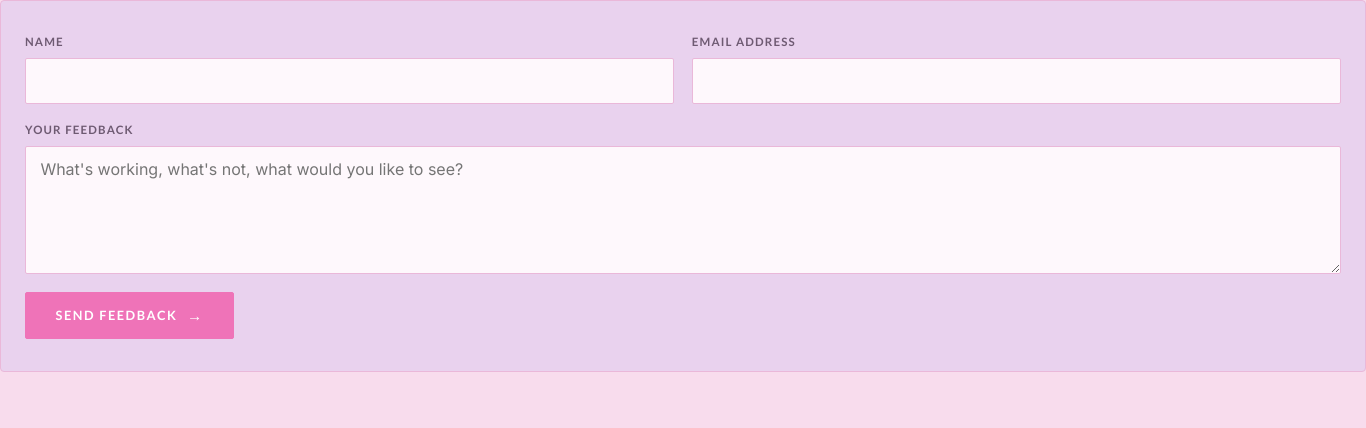
FeedbackForm › shows an error message when the action resolves with an error
This screenshot has width=1366, height=428.
In the field labelled "Name": [350, 81] box x1=25 y1=58 x2=674 y2=104, type "Amy"
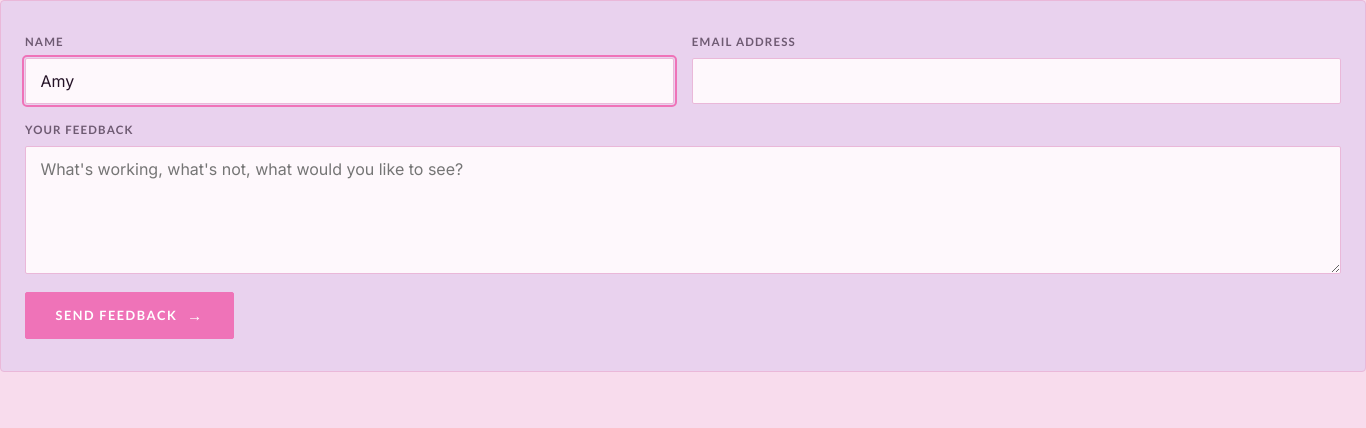
In the field labelled "Email address": [1016, 81] box x1=692 y1=58 x2=1341 y2=104, type "amy@example.com"
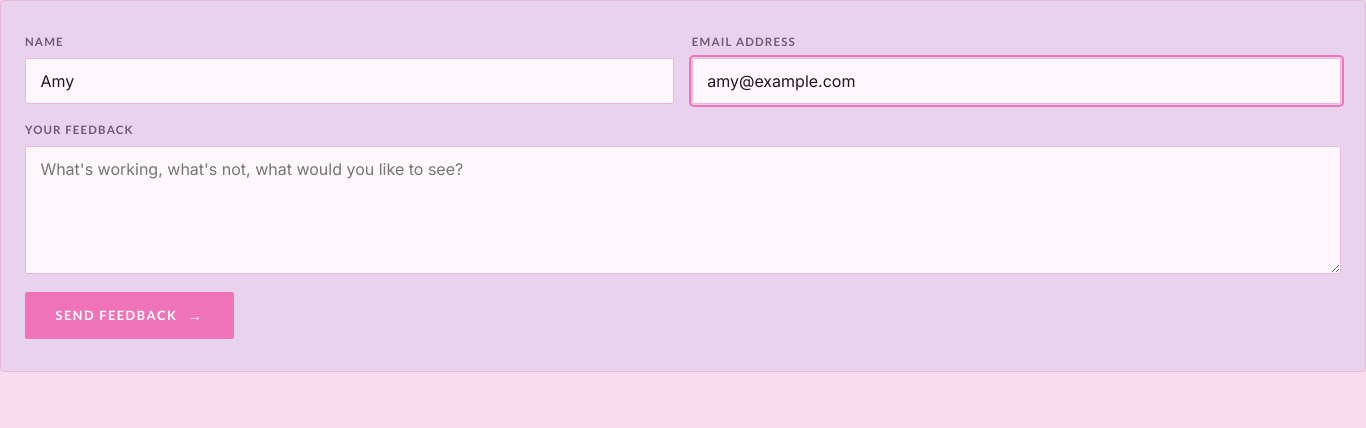
In the text box labelled "Your feedback": [683, 210] box x1=25 y1=146 x2=1341 y2=274, type "Hi"
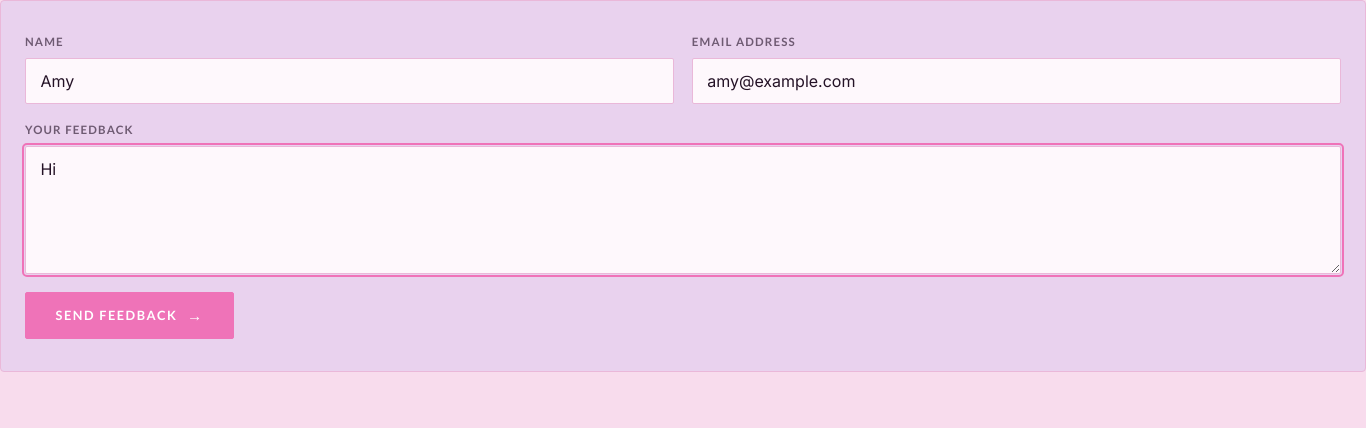
Click the button "Send feedback": [130, 315] box x1=25 y1=292 x2=234 y2=339
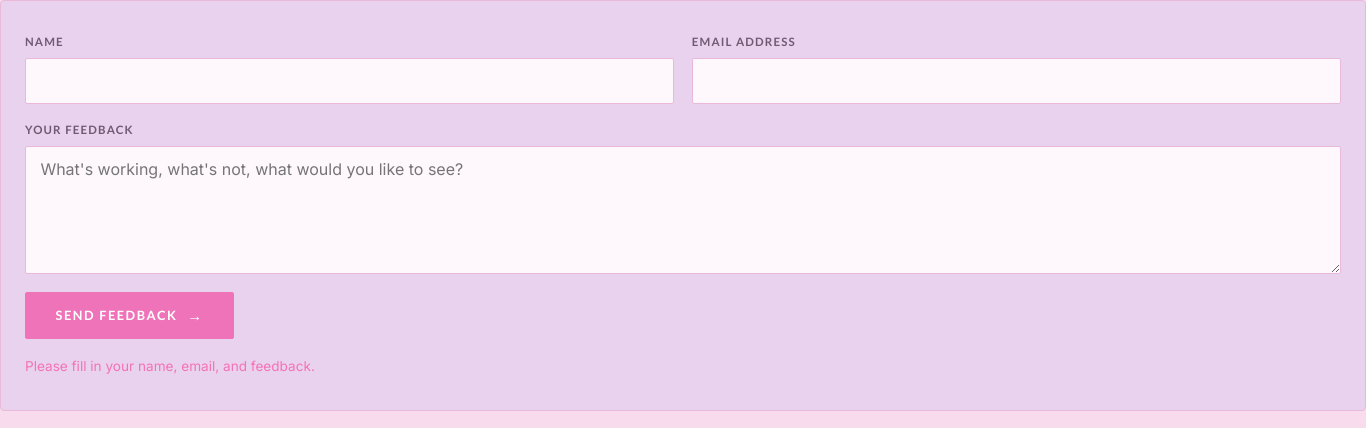
Now the message reads "Please fill in your name, email, and feedback.", box x1=25 y1=358 x2=315 y2=374
